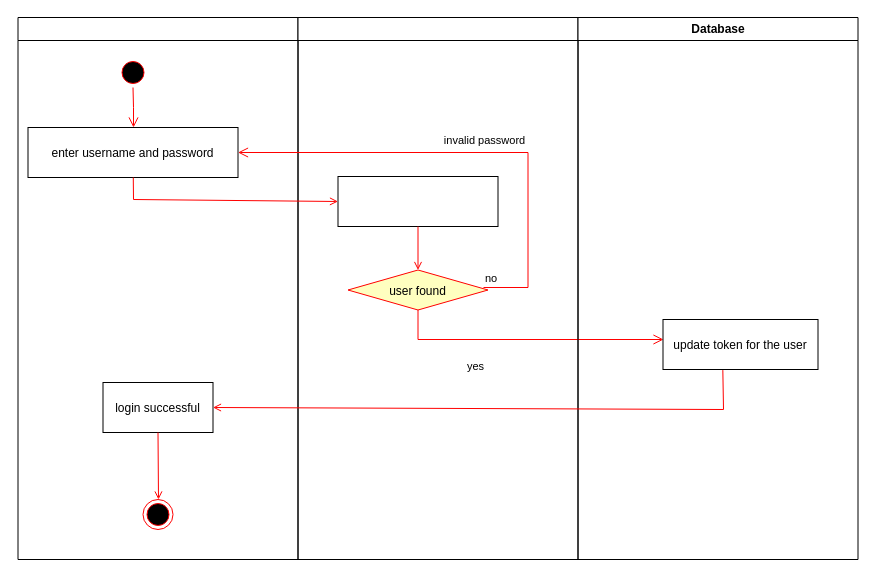
Image size: 875x577. Some labels were removed from this diagram. Each missing label, with the box of its shape:
Server: (297, 16, 578, 560)
Student: (17, 16, 298, 560)
validates user credentials: (337, 176, 498, 226)
